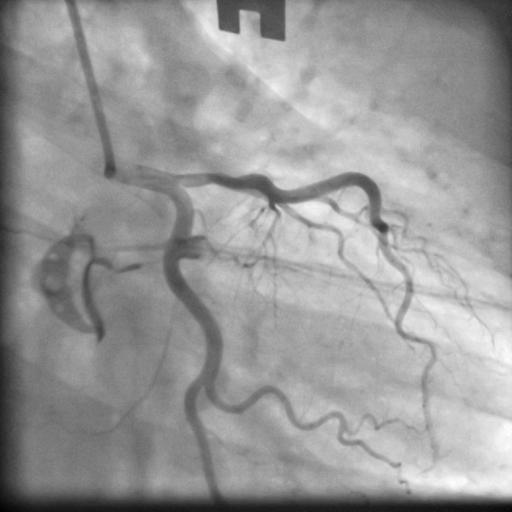Stenosis: (193, 168, 243, 188)
